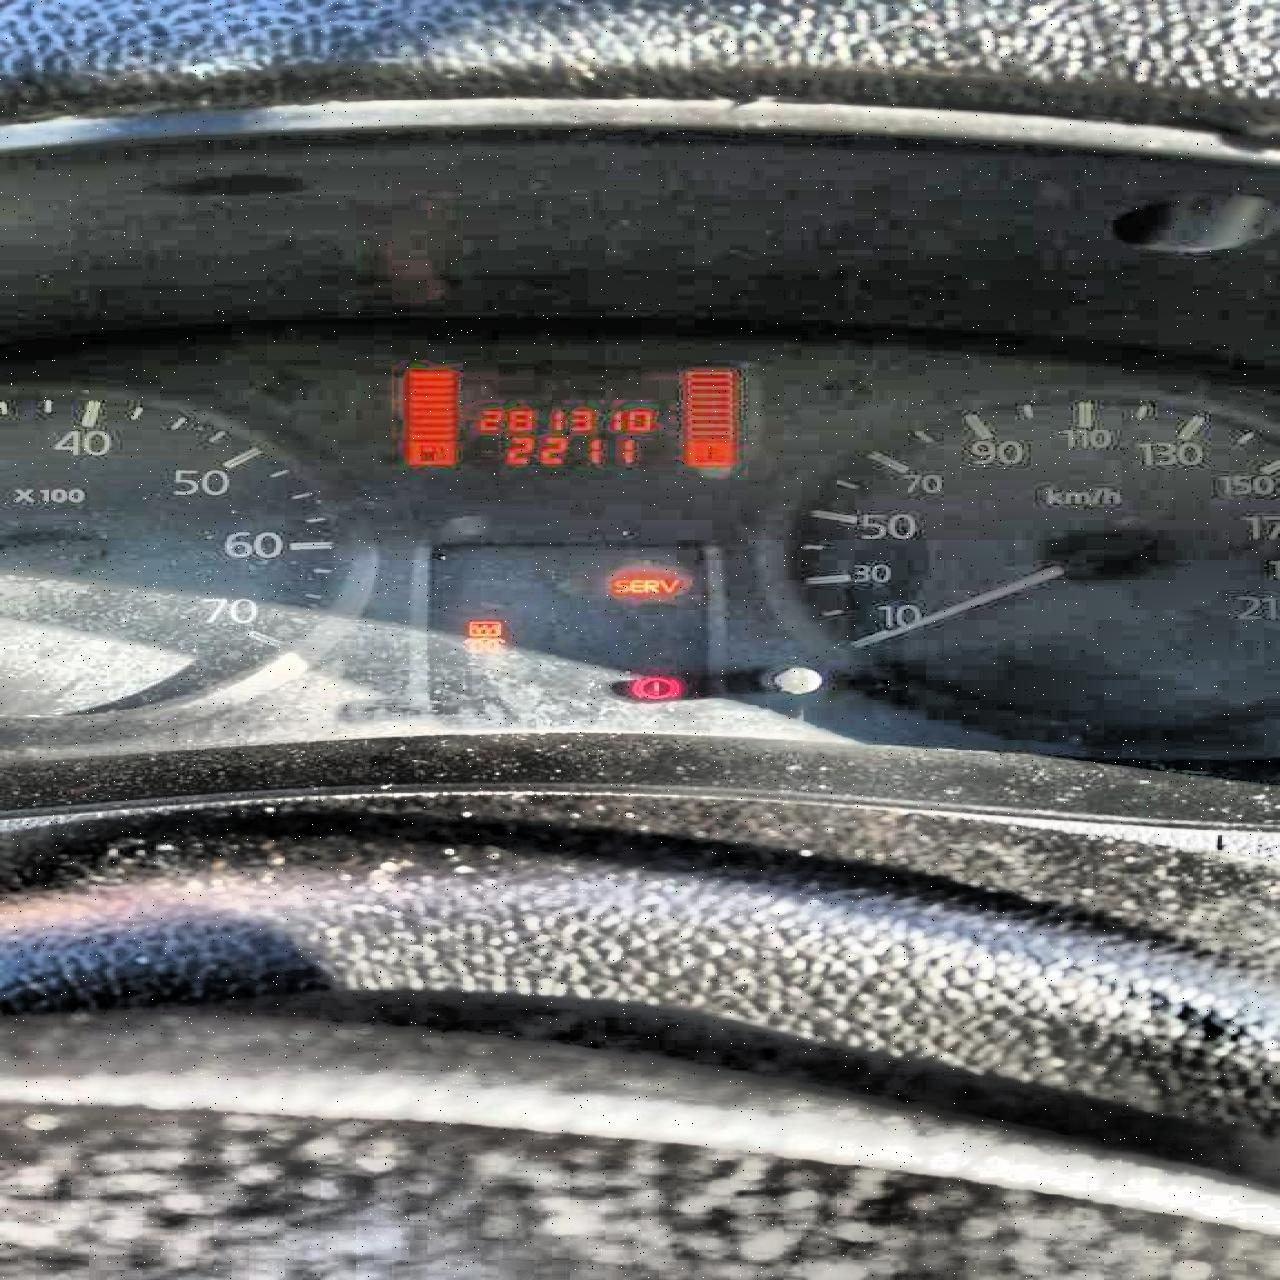0: (626, 409, 652, 430)
1: (614, 435, 636, 464), (580, 436, 604, 463), (606, 409, 626, 430), (547, 409, 565, 430)
2: (501, 436, 535, 464), (537, 436, 567, 465), (474, 408, 503, 431)
3: (566, 409, 592, 431)
8: (503, 408, 535, 431)
odometer: (369, 358, 760, 481)
